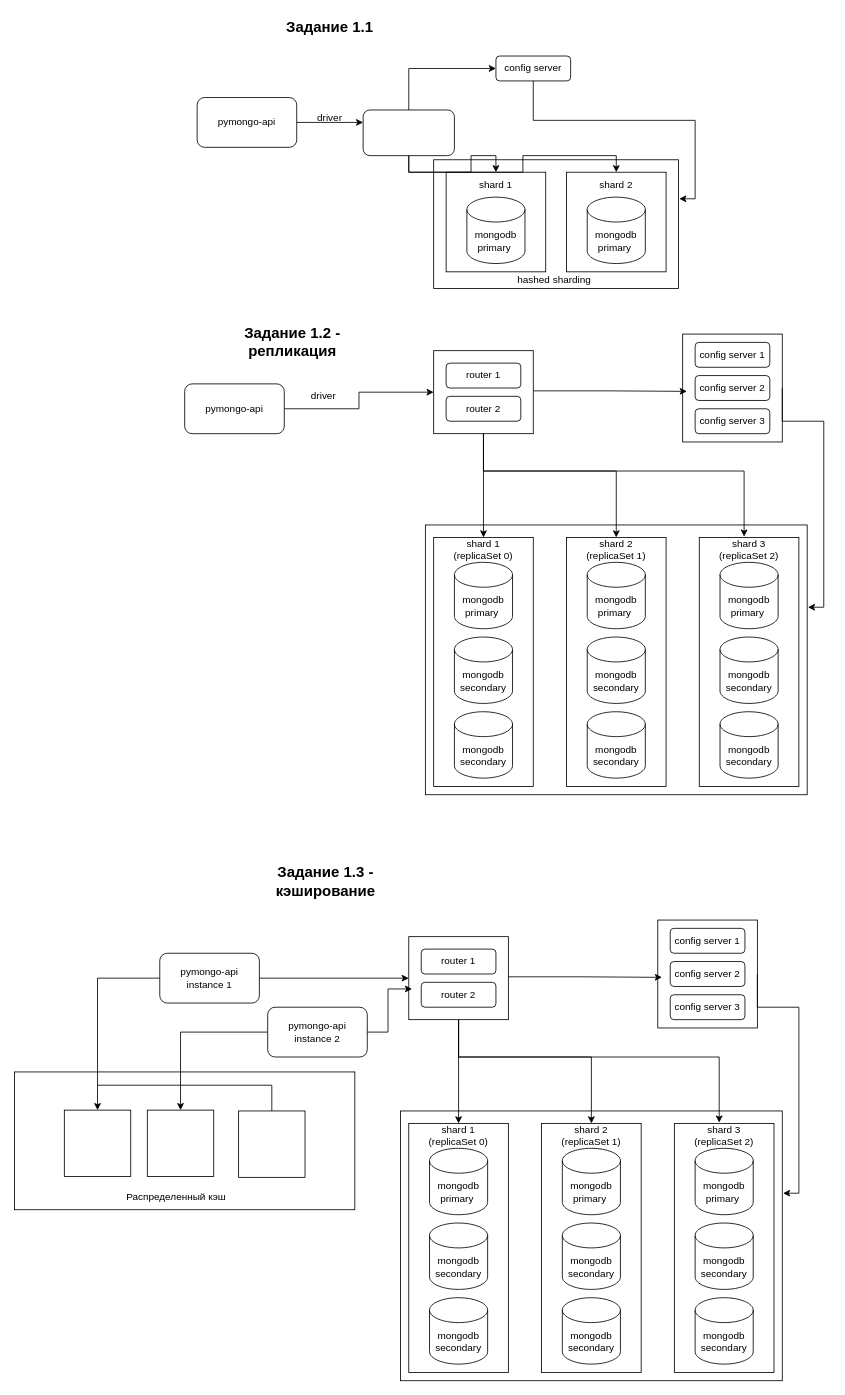
This 845x1395 diagram has some shape labels left out. The shapes that lost their labels are listed below. From the top down, each one's centre as x and y in pixels, then its label:
At (408,132): "Router mongoDB".
At (97,1143): "Кластер Valkey (redis) 1".
At (180,1143): "Кластер Valkey (redis) 2".
At (271,1143): "Кластер Valkey (redis) 3".
